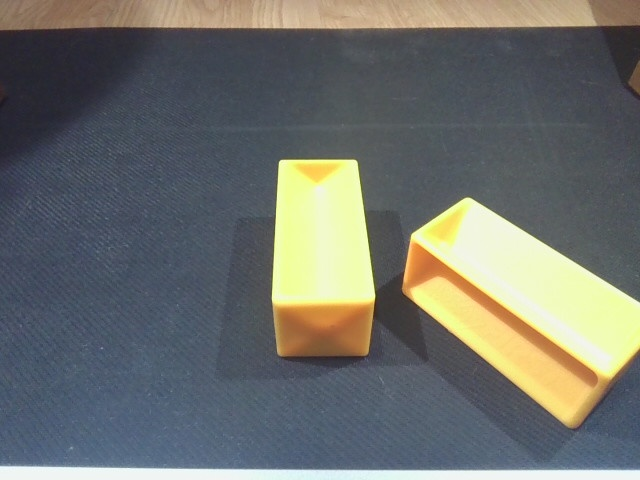YellowSample: (403, 189, 640, 437), (267, 156, 377, 359)
